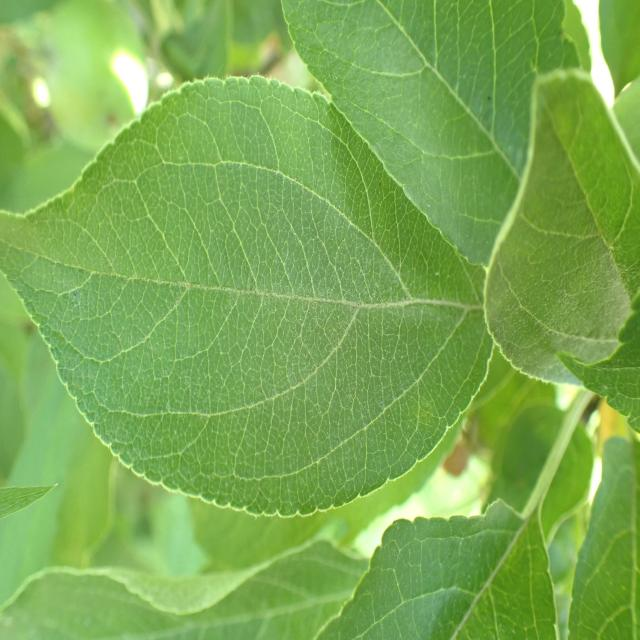healthy: (1, 74, 494, 520), (280, 0, 582, 271), (482, 68, 640, 430), (313, 497, 559, 640), (568, 436, 640, 639)
